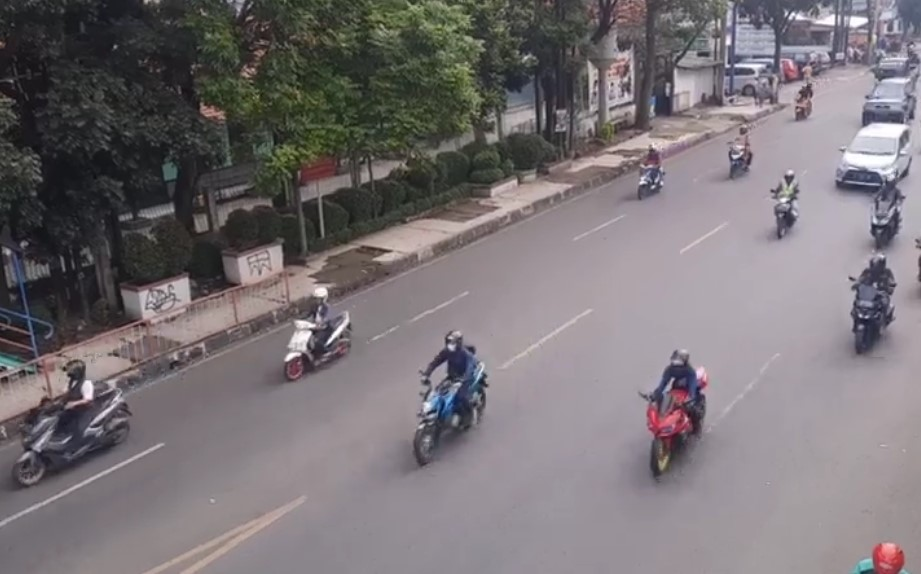motor: (1, 361, 163, 478), (406, 332, 486, 464), (636, 341, 709, 484), (275, 286, 362, 376), (837, 243, 905, 357), (861, 174, 910, 245), (767, 170, 809, 243), (630, 144, 676, 203), (720, 127, 761, 180)
